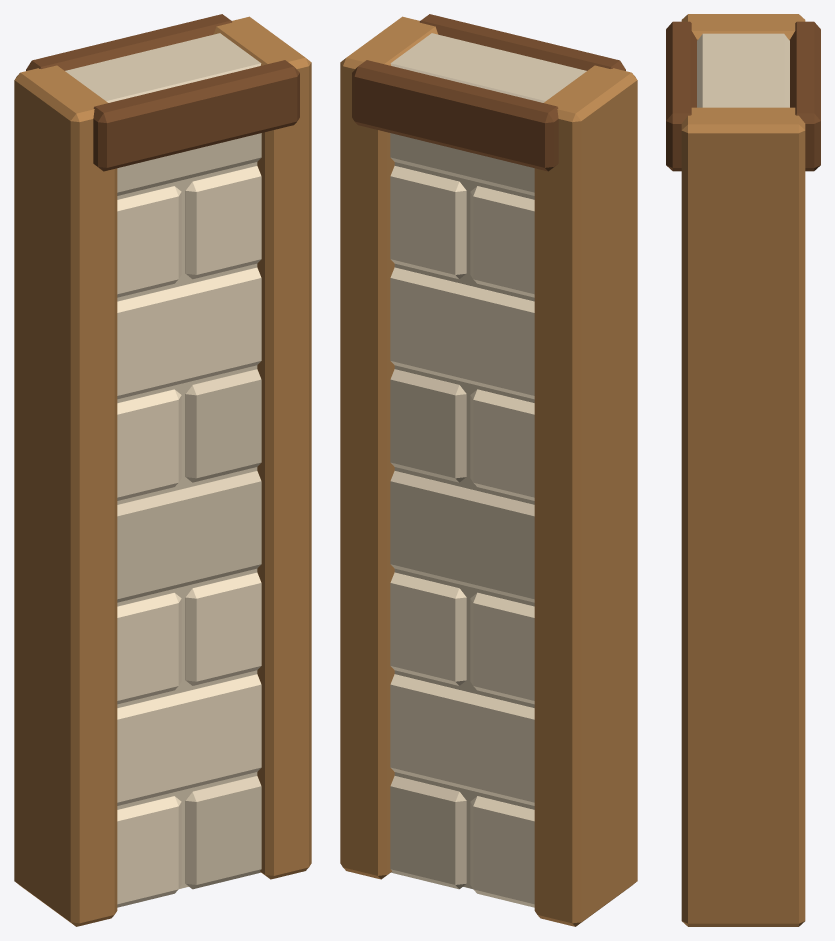
The model's file is mod_wall_straight_plain_0.5m.glb.
3 views of the same model, side by side, from view 1: azimuth 30°, elevation 25°; view 2: azimuth 150°, elevation 25°; view 3: azimuth 270°, elevation 25° (orthographic).
Visible parts, largest first — view 1: mod_wall_straight_plain_0.5m; view 2: mod_wall_straight_plain_0.5m; view 3: mod_wall_straight_plain_0.5m.
Part boxes in pixels (x1,y1,x2,y2): mod_wall_straight_plain_0.5m: [14, 14, 311, 926]; mod_wall_straight_plain_0.5m: [340, 14, 637, 926]; mod_wall_straight_plain_0.5m: [666, 14, 820, 926].
Size of the model in its own units: 0.62 by 2 by 0.35.
